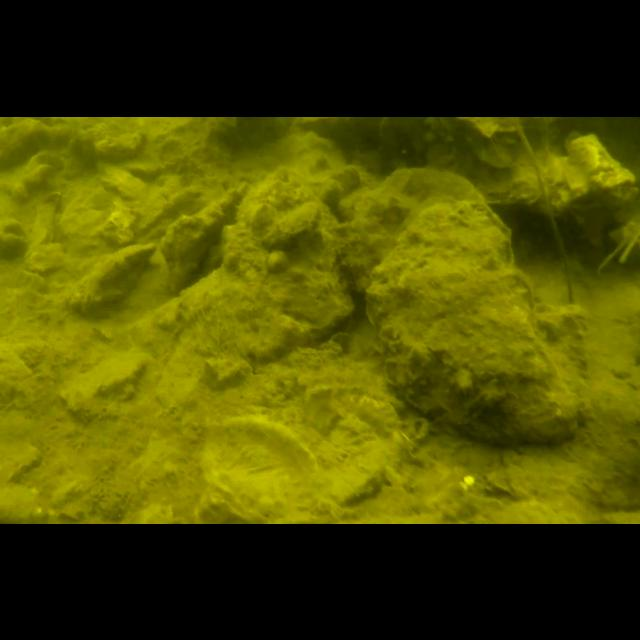Oyster-Closed: (364, 196, 576, 442), (338, 165, 484, 297), (200, 414, 320, 524), (158, 189, 244, 297), (62, 240, 156, 314), (72, 116, 146, 162), (263, 200, 323, 250)
Oyster-Open: (425, 116, 539, 208), (542, 130, 638, 214), (0, 217, 28, 256)
